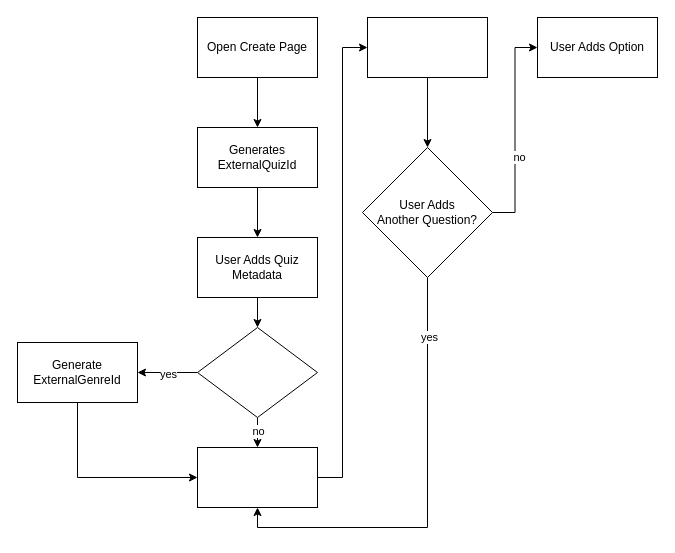
Some shapes in this 675 by 553 pixel diagram are drawn without their labels. Each missing label, with the centre of its shape:
Generate ExternalQuestionID: (x=427, y=47)
User Adds New Genre?: (x=257, y=372)
User Adds Question: (x=257, y=477)
